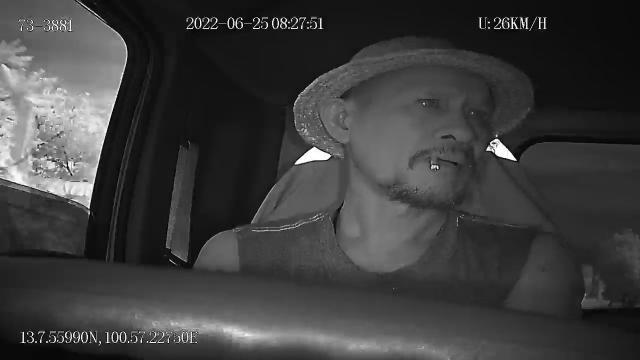SafeDriving: (406, 84, 446, 116)
Smoking: (428, 154, 442, 172)
